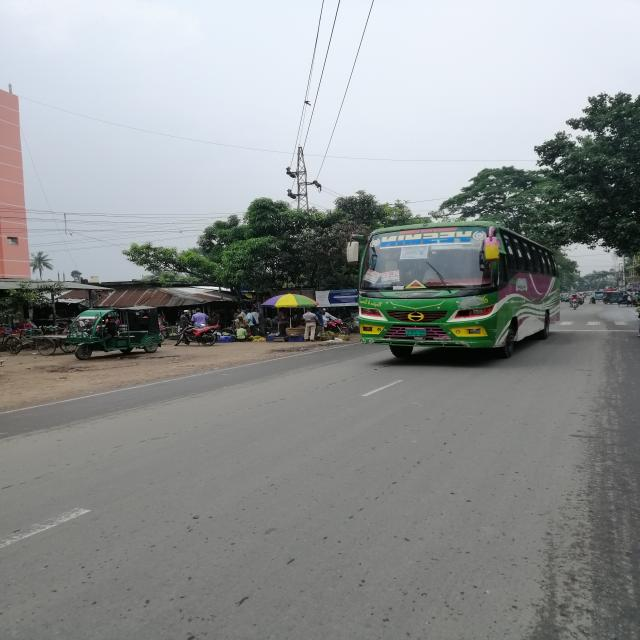Bus: (342, 220, 567, 366)
